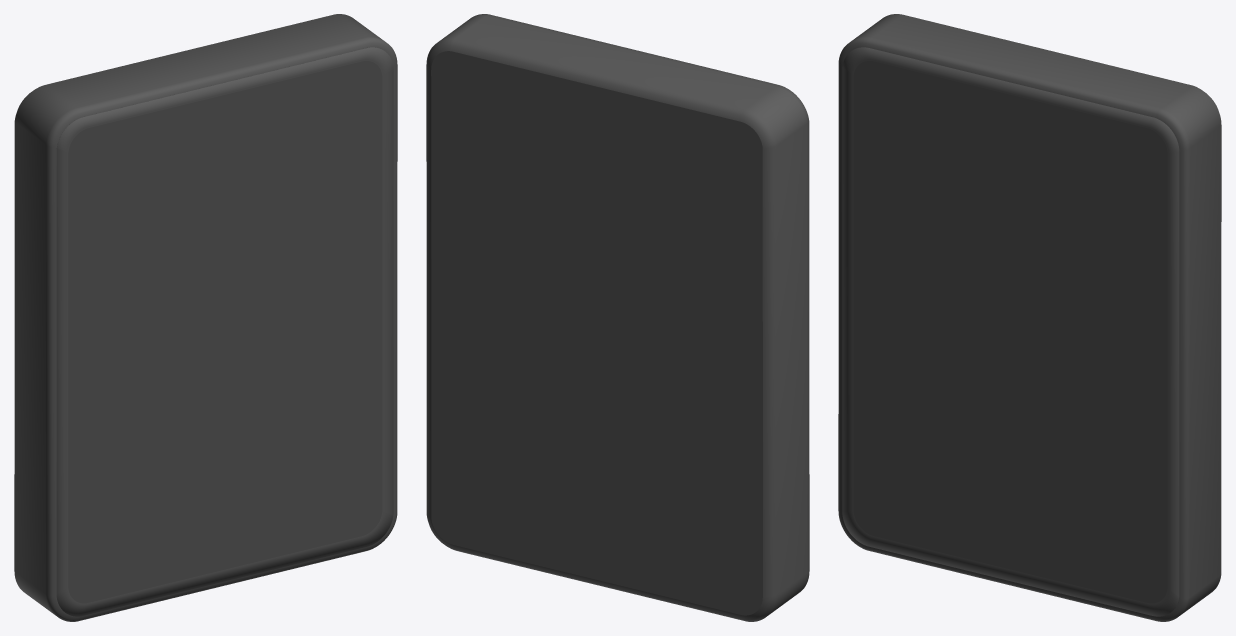
The model's file is word-tile.standard.glb.
3 renders of one model, left to right at view 1: azimuth 30°, elevation 25°; view 2: azimuth 150°, elevation 25°; view 3: azimuth 330°, elevation 25°, orthographic.
Parts seen in each view (by area): view 1: tile_face, tile_body, tile_rim; view 2: tile_body; view 3: tile_face, tile_body, tile_rim.
Boxes of the visible parts, x1,y1,x2,y2 form: tile_face: (68,61,382,603); tile_body: (14,14,397,621); tile_rim: (56,47,393,616); tile_body: (426,14,809,621); tile_face: (853,61,1167,603); tile_body: (838,14,1221,621); tile_rim: (842,47,1179,616).
Bounding box in the file's own units: 1 × 1.4 × 0.2.
2 materials, 2 textured.
